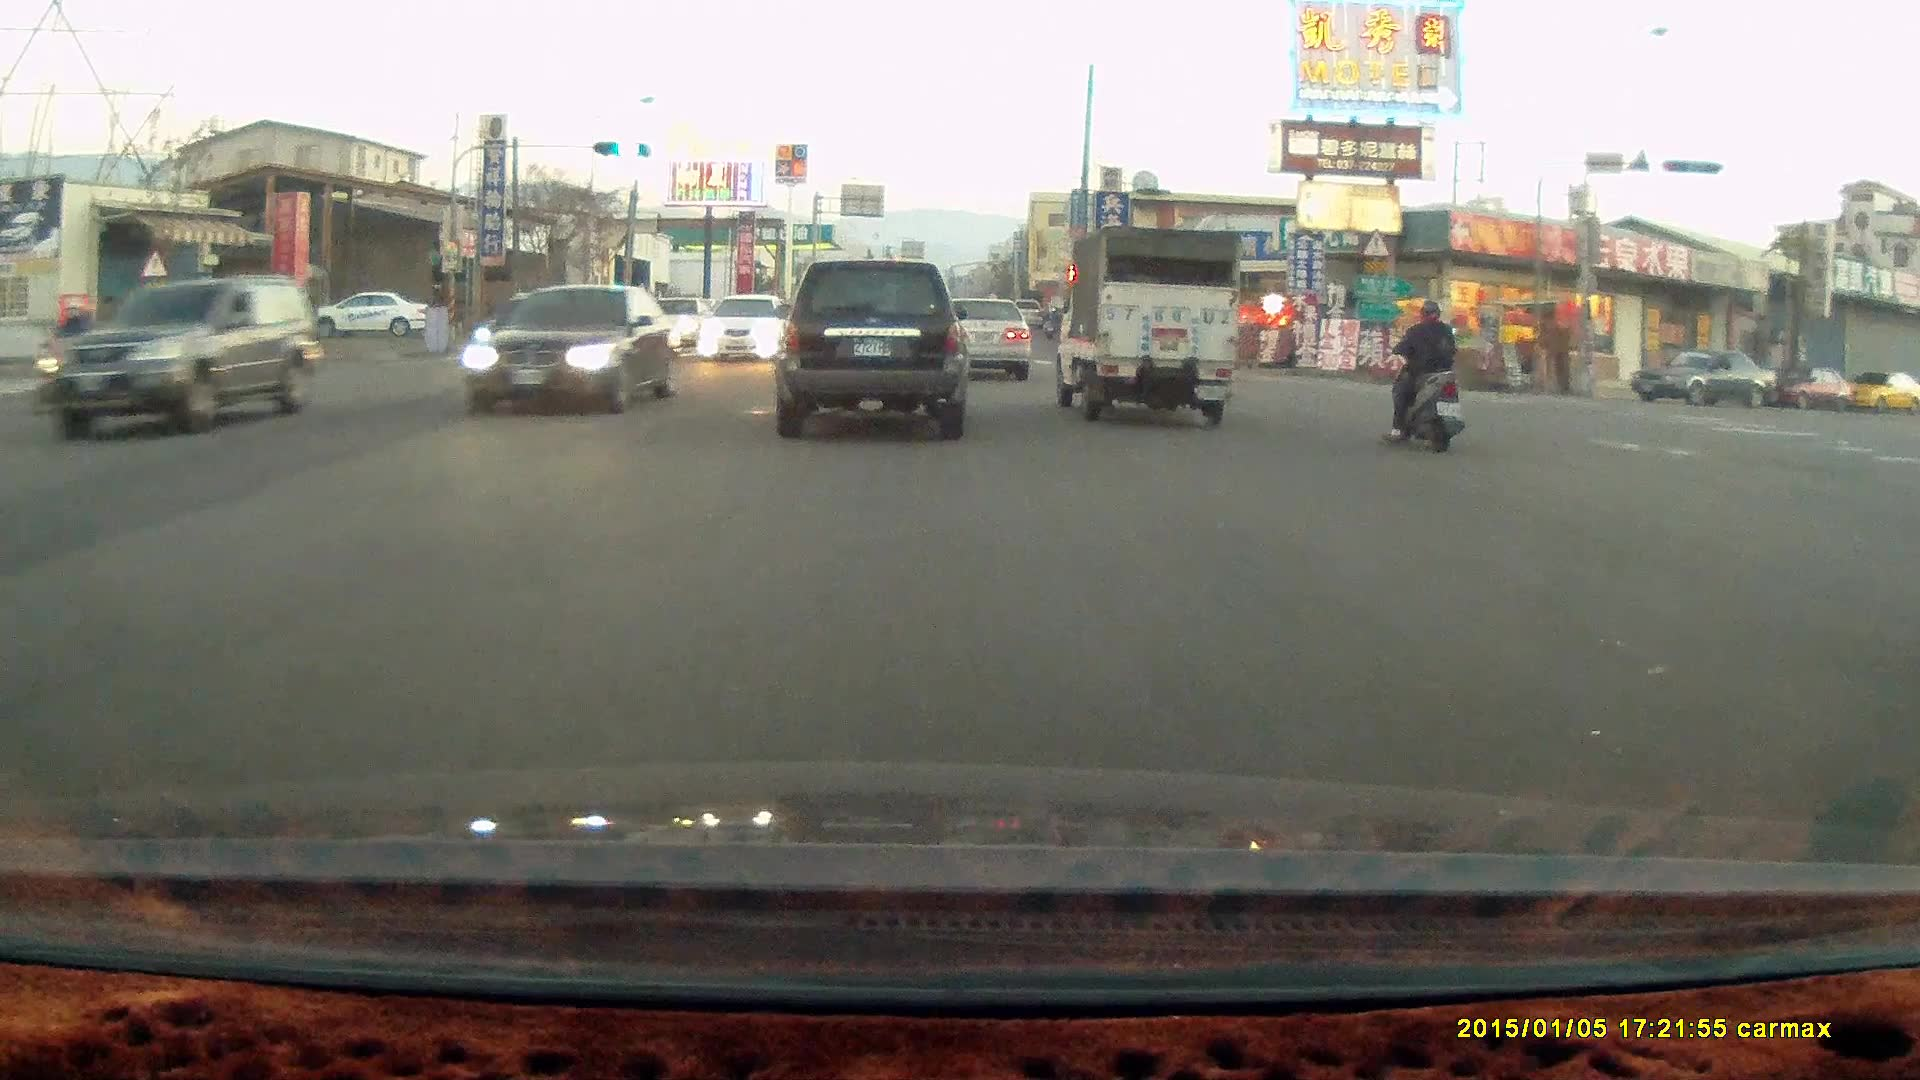rider: (1384, 295, 1466, 448)
vehicle: (44, 277, 319, 434), (1046, 222, 1240, 424), (772, 256, 969, 440), (457, 283, 684, 413), (925, 290, 1032, 380), (472, 281, 589, 360), (1629, 348, 1781, 409), (937, 296, 1036, 383), (697, 294, 790, 362), (316, 287, 434, 337), (1763, 365, 1856, 412), (1841, 371, 1920, 413)
